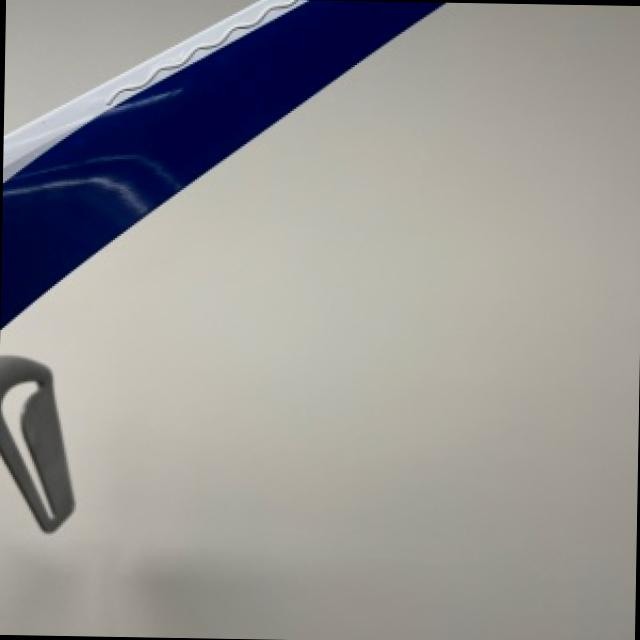healthy: (0, 353, 76, 531), (0, 357, 76, 526)
